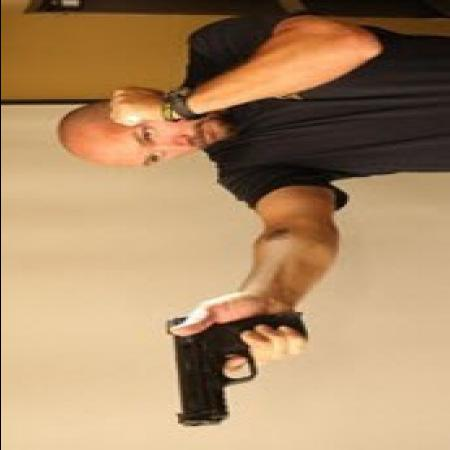Pistol: (151, 305, 317, 436)
